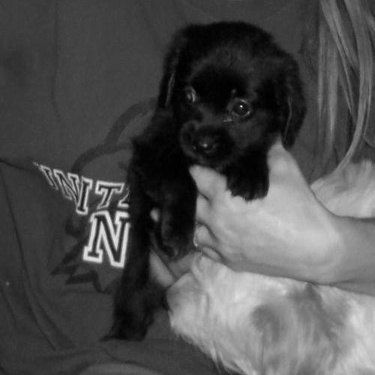dog: (103, 12, 310, 340), (163, 154, 374, 373)
